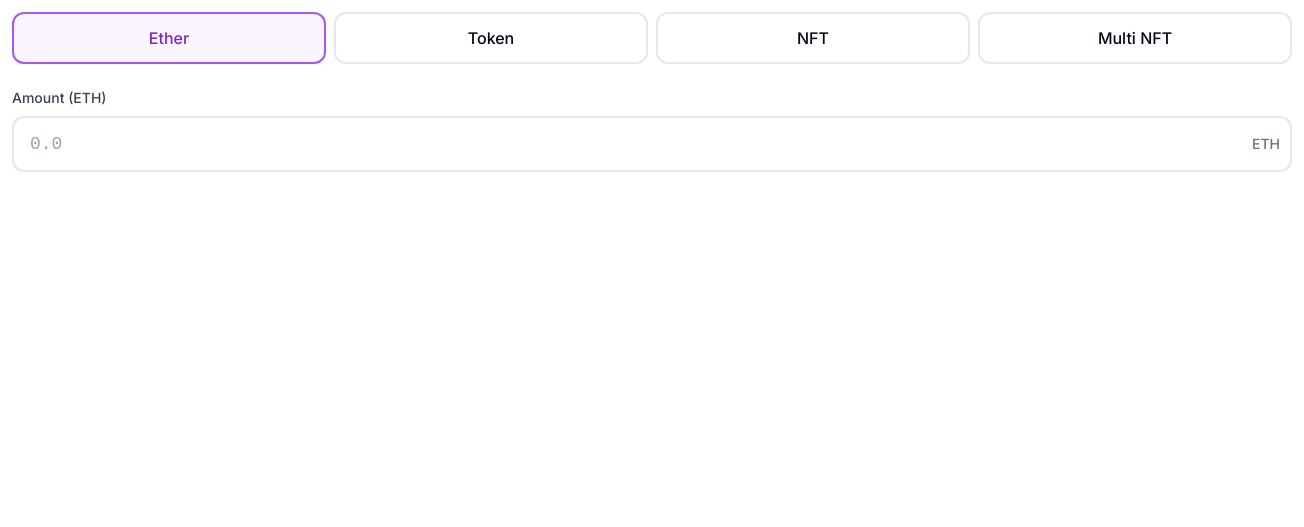
Scenario: AssetPicker › should default amount to 1 for ERC1155
# Switch to ERC1155 tab
Click the button "Multi NFT".
click(1135, 38)  # box [978,12,1292,64]
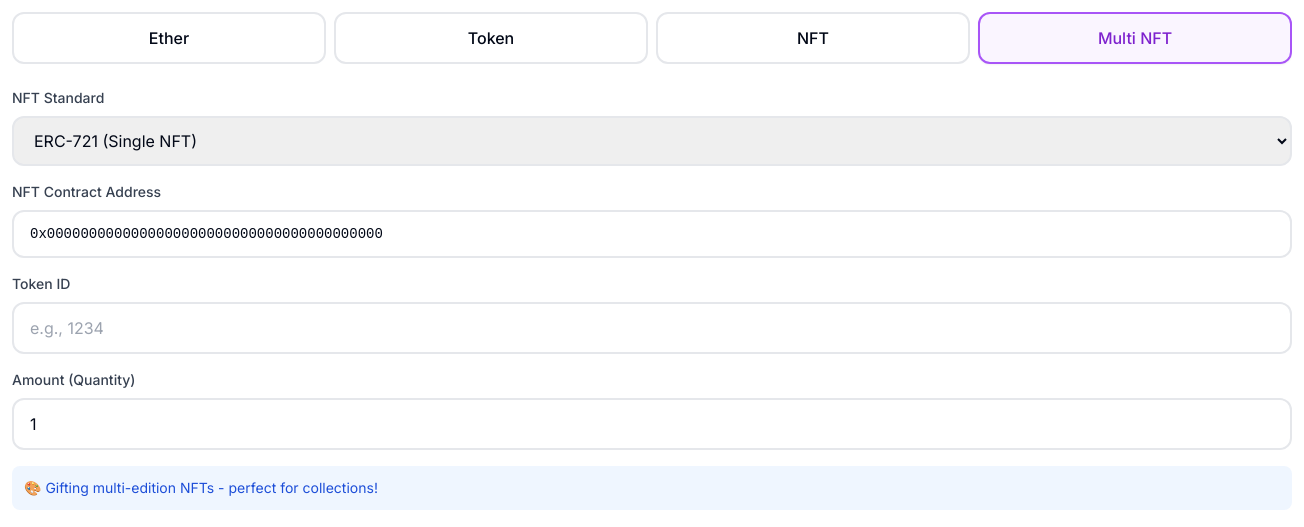
Now the field showing "1" below "Amount (Quantity)" is shown, box [12,398,1292,450]
